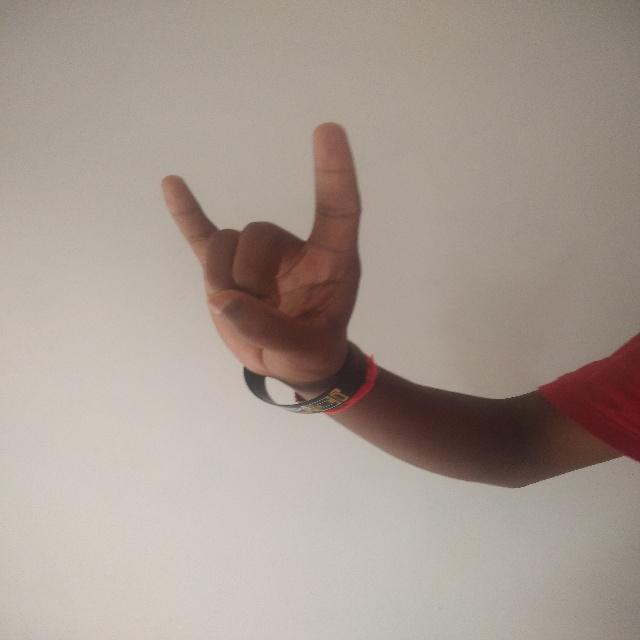Corna: (151, 118, 382, 423)
